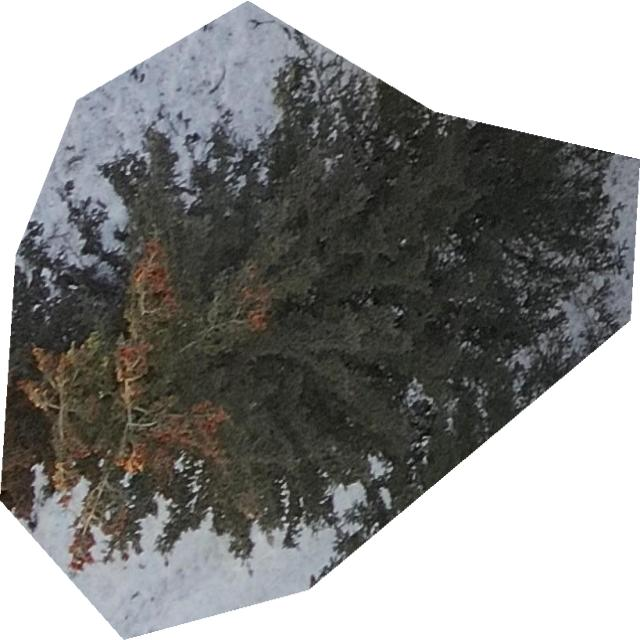spruce: (0, 4, 637, 636)
